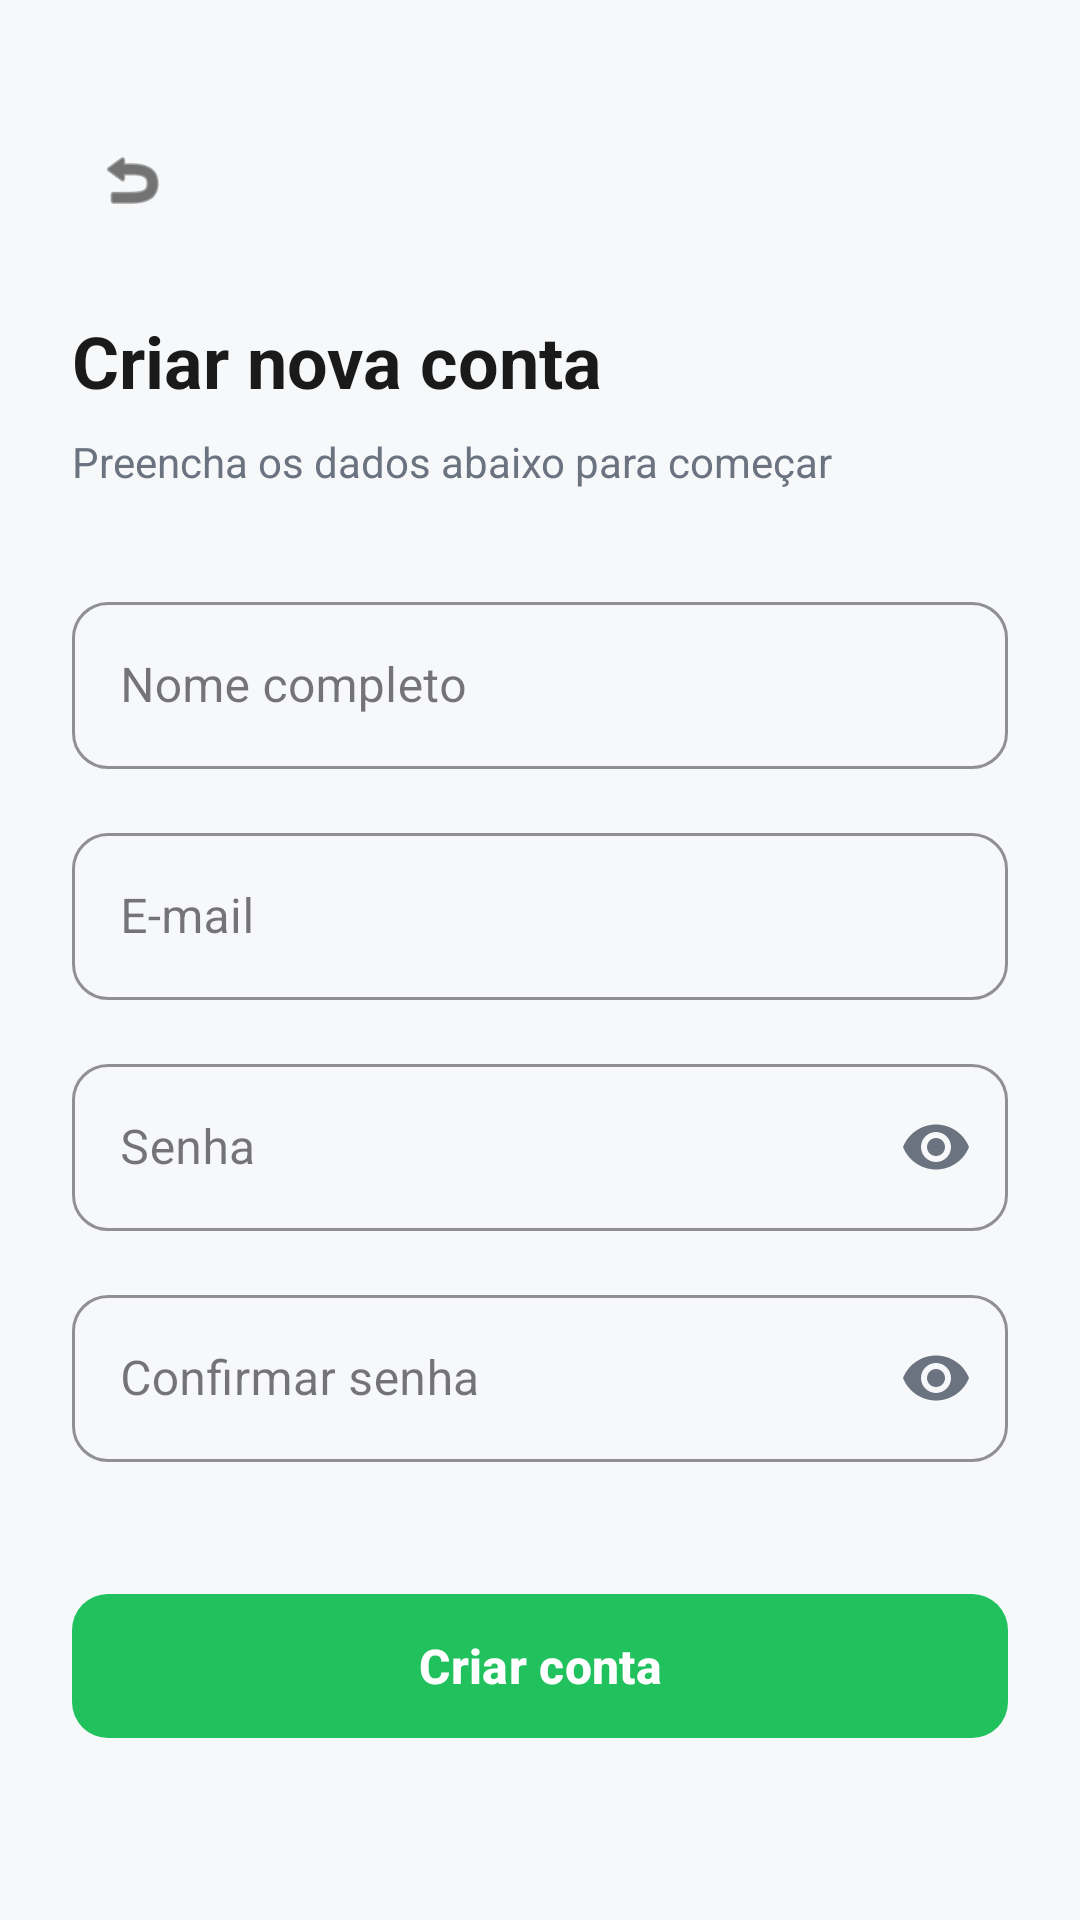

Screen size 1080x1920. Icon name, then its center in pixels as (x=x, y=y):
revert: (x=133, y=180)
